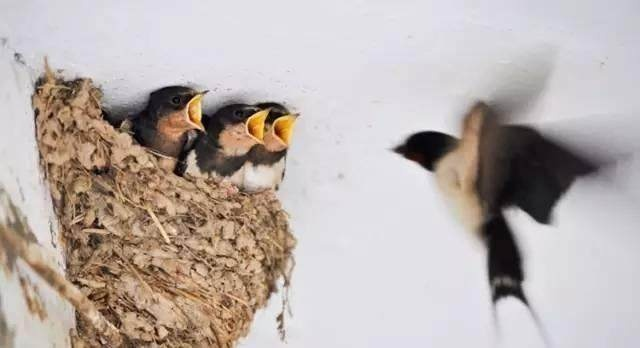bird-nest: (34, 77, 298, 340)
